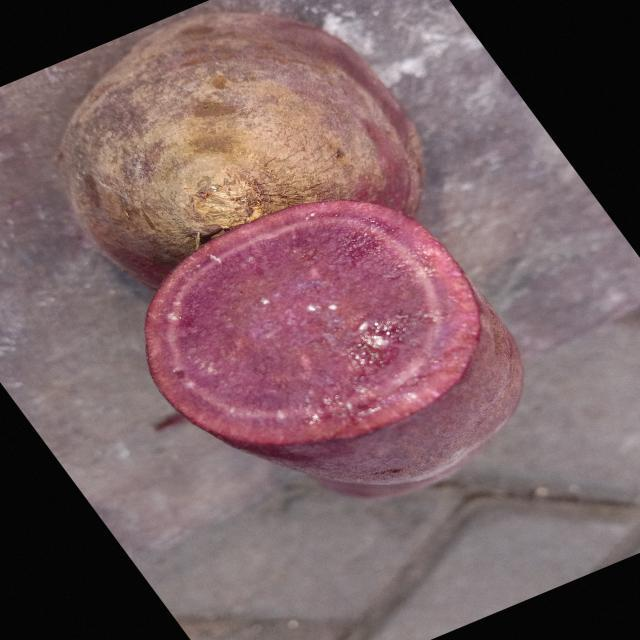Healthy Sweet Potato: (145, 201, 480, 445)
